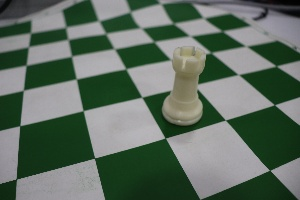white_rook: (151, 33, 208, 142)
